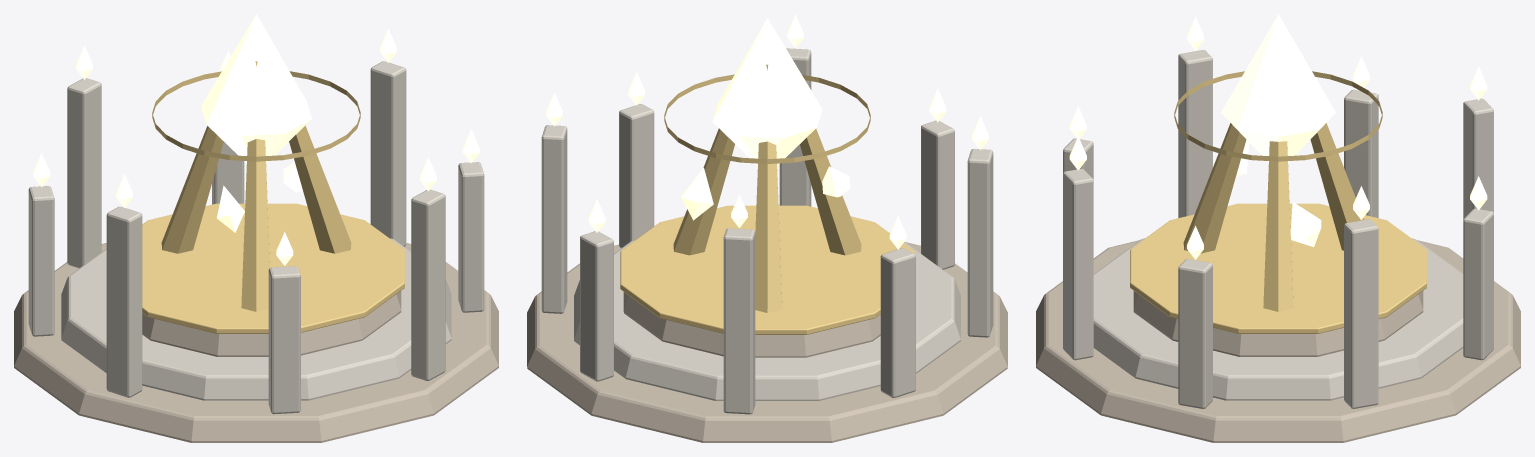
File: ancient_dawn.glb
3 views of the same model, side by side, from view 1: azimuth 30°, elevation 25°; view 2: azimuth 150°, elevation 25°; view 3: azimuth 270°, elevation 25° (orthographic).
Parts seen in each view (by area): view 1: tier1, trimring, tier2, heart, mono4, mono6, mono0, mono2, tier3, mono5, arm2, mono3 (+6 smaller); view 2: tier1, trimring, tier2, heart, mono2, tier3, mono3, mono0, mono4, mono1, mono5, mono7 (+7 smaller); view 3: tier1, trimring, tier2, heart, mono0, mono6, mono7, tier3, mono4, mono1, arm0, mono3 (+6 smaller).
Boxes of the visible parts, box(x1,y1,x2,y2) form: tier1: box(14, 243, 498, 442); trimring: box(142, 203, 404, 333); tier2: box(61, 238, 451, 400); heart: box(201, 14, 311, 163); mono4: box(106, 206, 142, 397); mono6: box(411, 189, 445, 380); mono0: box(370, 61, 406, 246); mono2: box(67, 78, 101, 268); tier3: box(142, 291, 401, 356); mono5: box(268, 266, 300, 414); arm2: box(241, 61, 269, 311); mono3: box(28, 186, 54, 336); tier1: box(527, 242, 1007, 442); trimring: box(620, 205, 914, 334); tier2: box(574, 240, 960, 400); heart: box(712, 18, 822, 165); mono2: box(723, 228, 755, 414); tier3: box(623, 292, 880, 357); mono3: box(880, 248, 915, 397); mono0: box(541, 125, 567, 313); mono4: box(967, 149, 993, 337); mono1: box(580, 231, 613, 381); mono5: box(921, 120, 954, 269); mono7: box(619, 104, 654, 248); tier1: box(1036, 240, 1520, 442); trimring: box(1130, 203, 1426, 333); tier2: box(1093, 238, 1463, 400); heart: box(1221, 14, 1335, 162); mono0: box(1344, 219, 1378, 408); mono6: box(1063, 168, 1093, 360); mono7: box(1178, 259, 1212, 408); tier3: box(1133, 291, 1423, 356); mono4: box(1178, 50, 1212, 217); mono1: box(1463, 208, 1493, 360); arm0: box(1263, 141, 1293, 311); mono3: box(1344, 89, 1378, 217).
Size of the model in its own units: 8.84 by 6.58 by 8.84.
